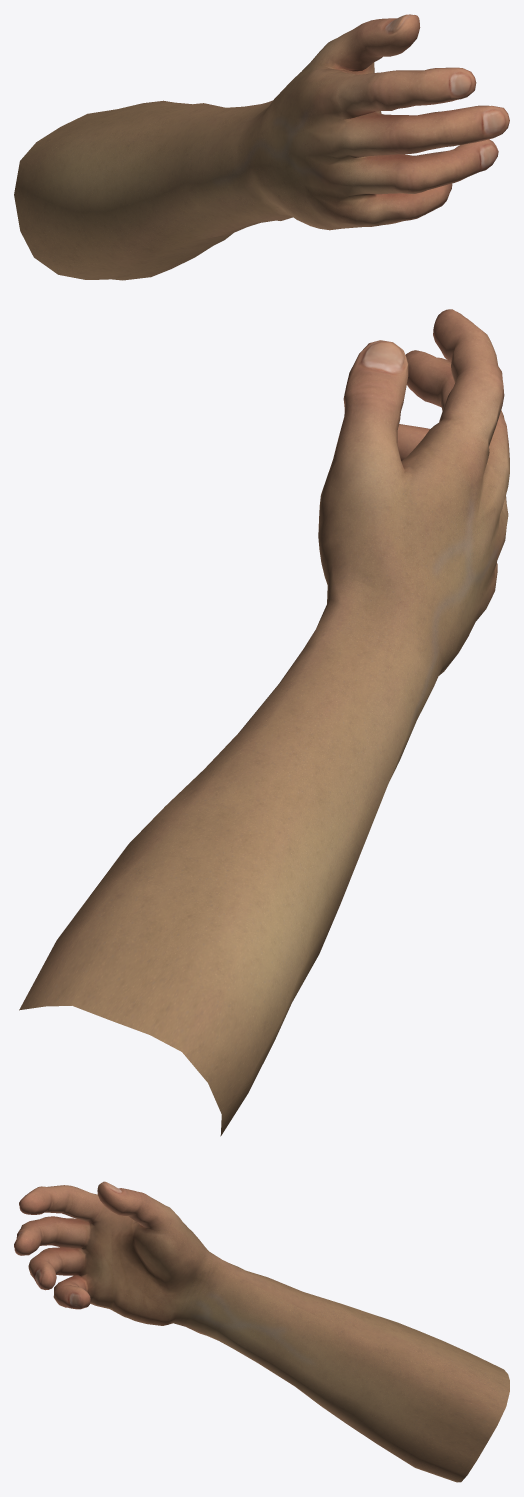
The picture shows the model from 3 angles, top to bottom: view 1: azimuth 30°, elevation 25°; view 2: azimuth 150°, elevation 25°; view 3: azimuth 270°, elevation 25°; orthographic projection. The views are drawn at different scales.
Visible parts, largest first — view 1: arms; view 2: arms; view 3: arms.
Part boxes in pixels (x1,y1,x2,y2): arms: (14, 14, 509, 280); arms: (19, 309, 509, 1136); arms: (14, 1181, 509, 1482).
Bounding box in the file's own units: 40.14 × 89.51 × 129.
1 material, 1 textured.
